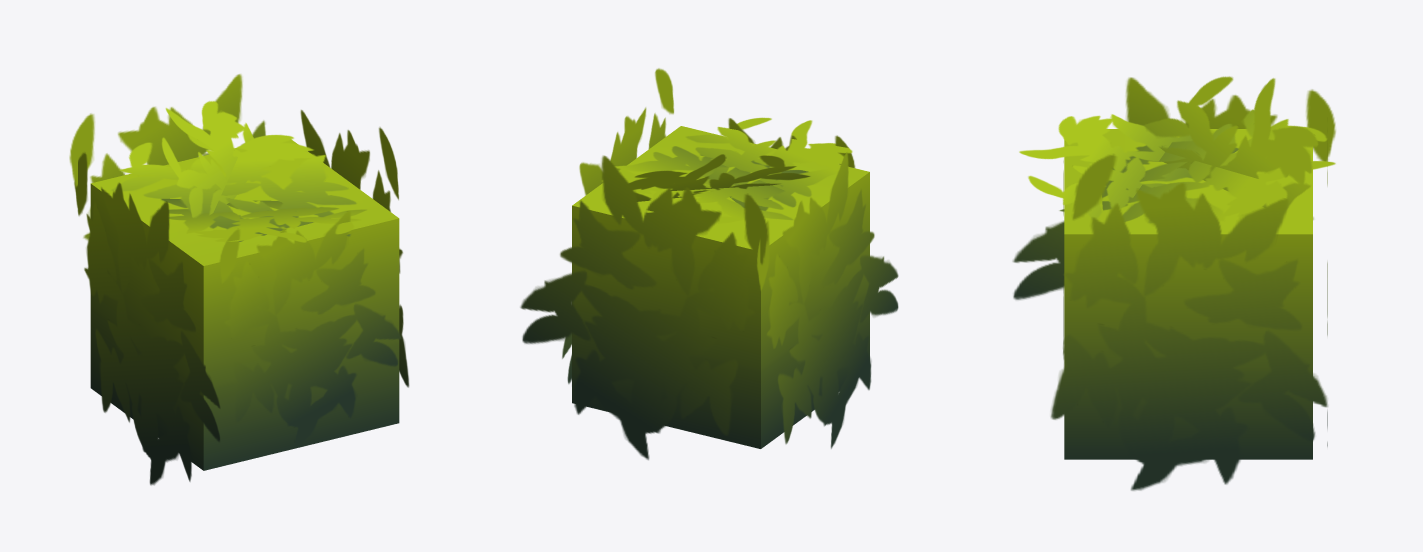
Rendered from obstacle_stone.glb.
3 views of the same model, side by side, from view 1: azimuth 30°, elevation 25°; view 2: azimuth 150°, elevation 25°; view 3: azimuth 270°, elevation 25° (orthographic). The views are drawn at different scales.
Visible parts, largest first — view 1: bush; view 2: bush; view 3: bush.
Boxes of the visible parts, x1,y1,x2,y2 form: bush: (69,74,409,485); bush: (520,68,898,459); bush: (1012,76,1335,490).
Size of the model in its own units: 0.8974 by 0.9463 by 0.9202.
1 material, 1 textured.
